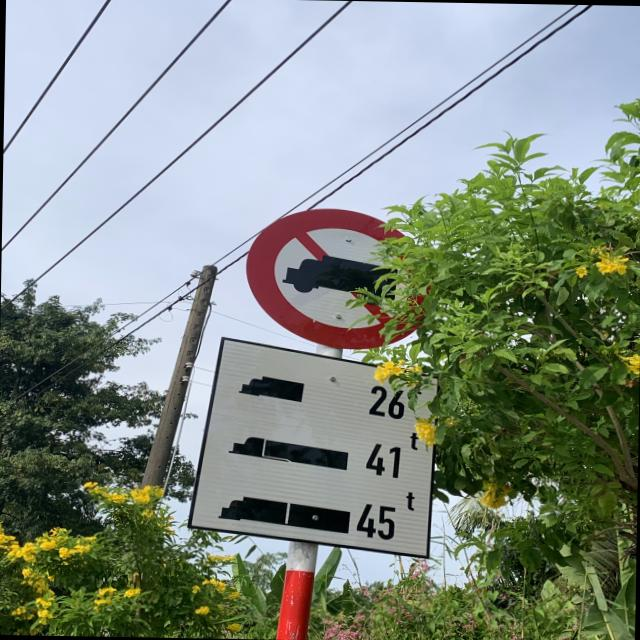Cam_Xe_Tai: (240, 207, 440, 352)
